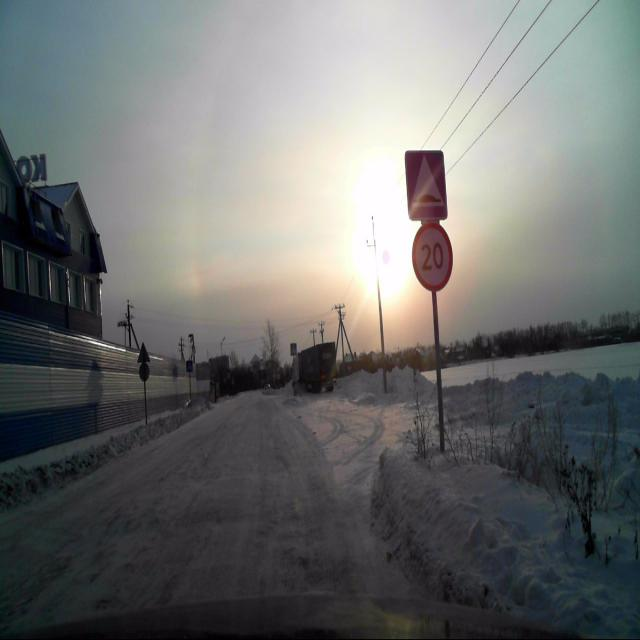object: (431, 292, 444, 452)
road sign: (404, 148, 447, 222)
